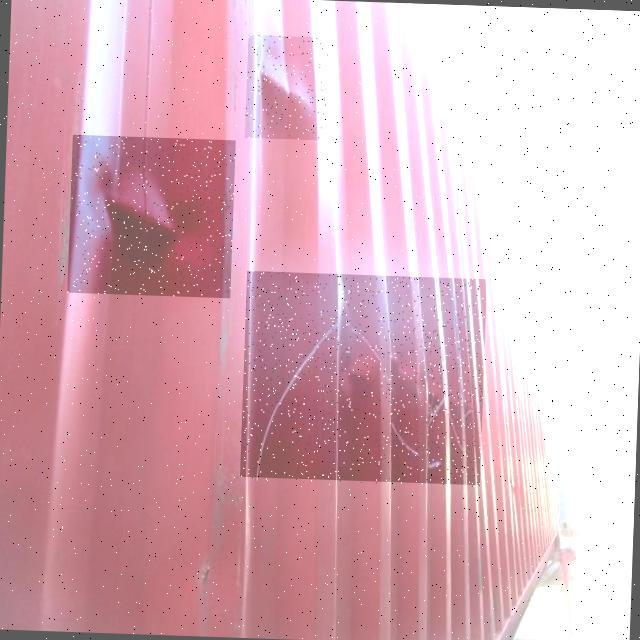Dent: (240, 271, 487, 487)
Minor-Dent: (67, 134, 235, 298), (244, 34, 328, 140)
